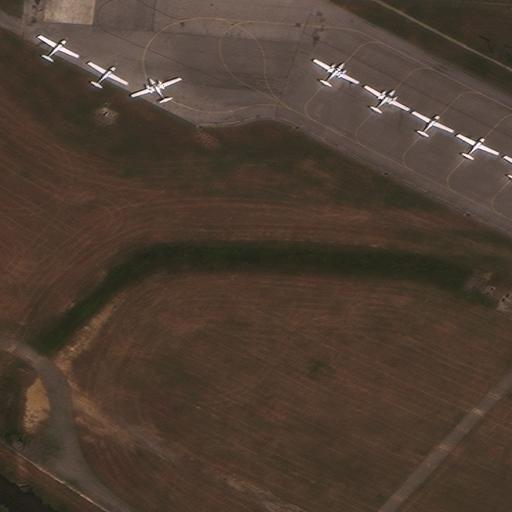Small Civil Transport: (364, 83, 410, 111), (130, 76, 178, 102), (313, 58, 359, 85), (37, 33, 79, 60), (458, 133, 500, 158), (414, 110, 454, 136), (90, 60, 128, 87)
